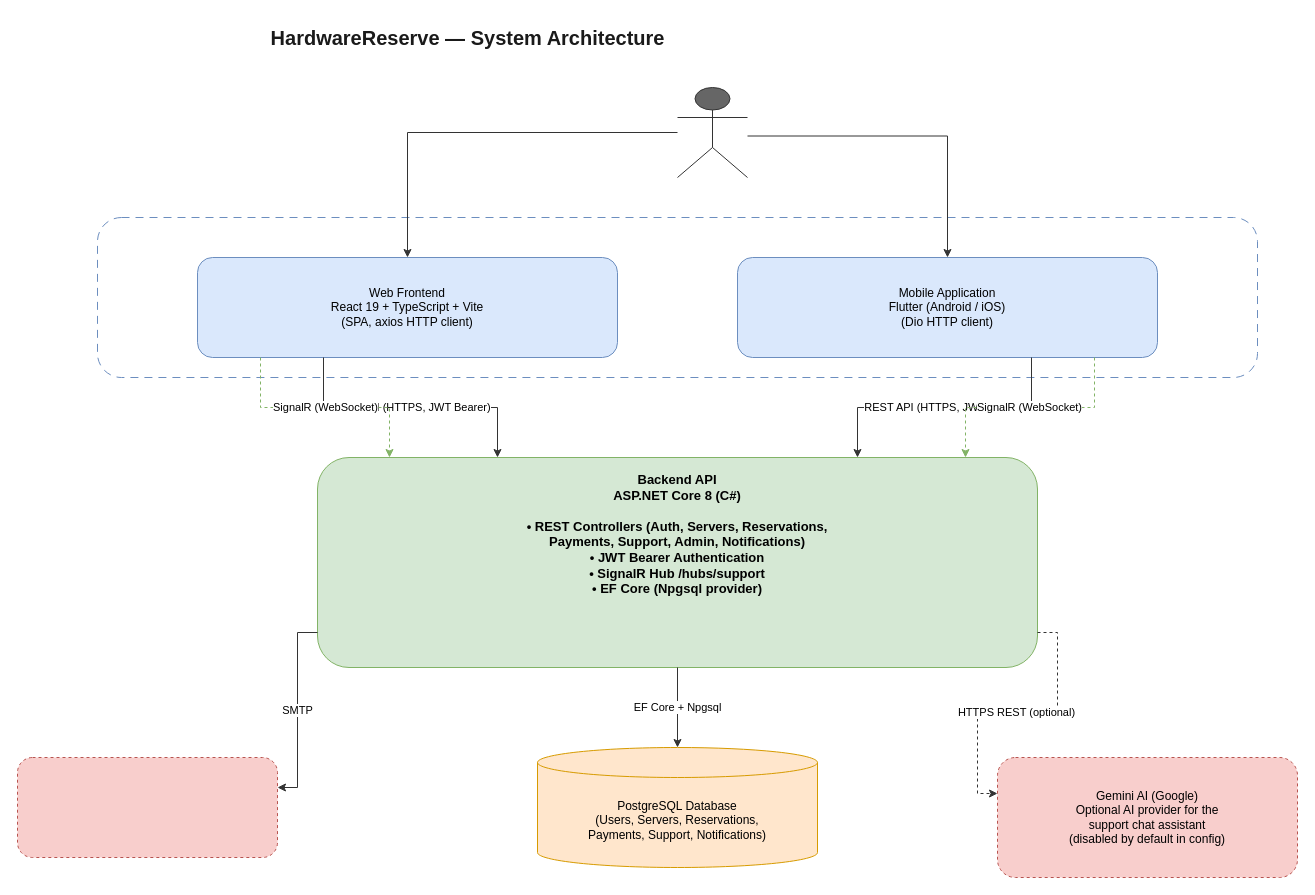
Image size: 1315x895. Some labels were removed from this diagram. The box of each missing label's shape, as (x1, y1, x2, y2) in pixels:
Client Applications: (96, 216, 1258, 378)
SMTP Email Service (verification codes, password reset, alerts): (16, 756, 278, 858)
User / Administrator: (676, 86, 748, 178)
